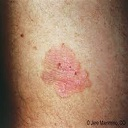Bowen: (41, 44, 92, 96)
